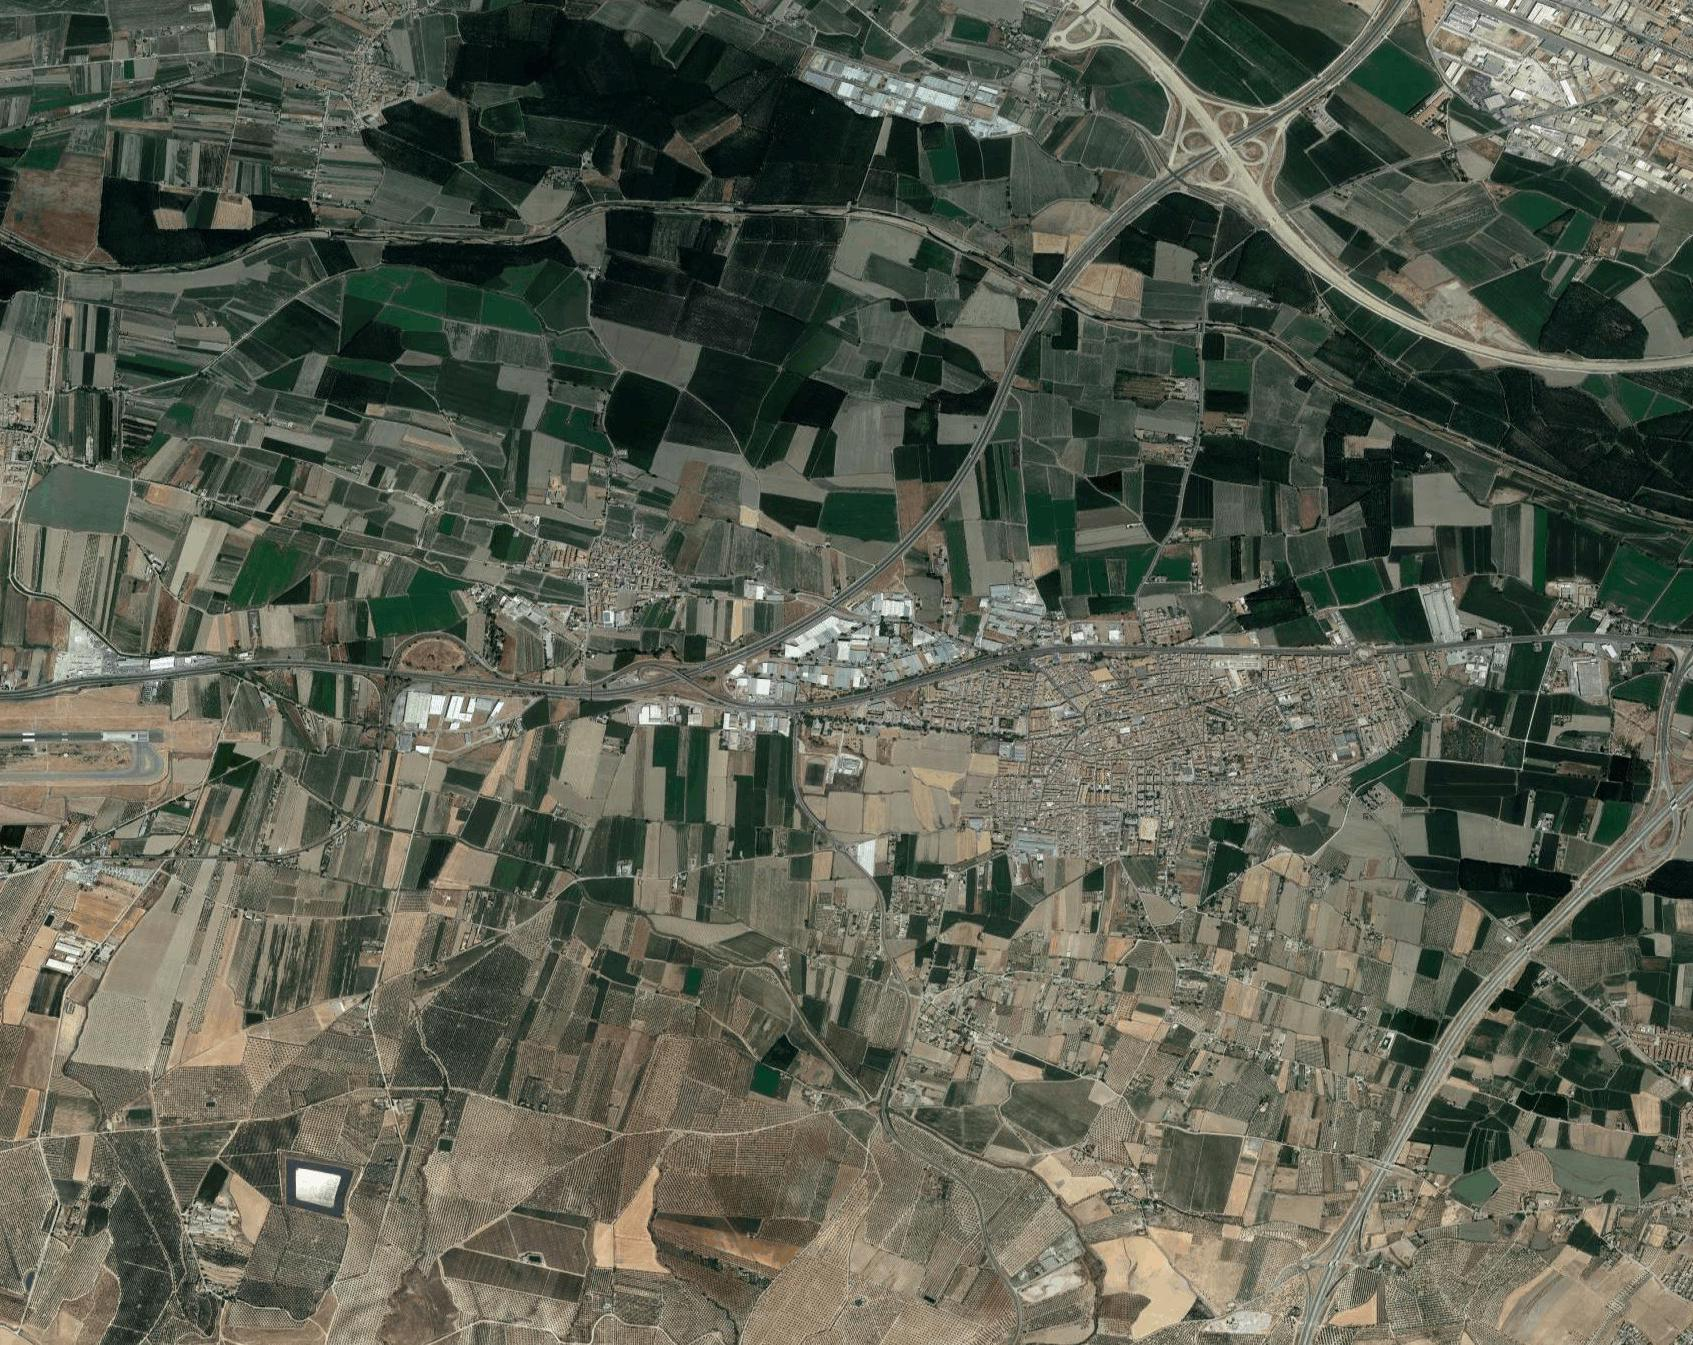industrial: (1436, 1, 1693, 170), (803, 54, 1018, 137), (760, 604, 940, 697)
motorway: (1011, 202, 1130, 348), (1130, 104, 1285, 210), (829, 481, 956, 604), (1275, 1, 1413, 107), (932, 346, 1032, 484), (666, 592, 826, 677), (1586, 800, 1675, 894), (1492, 892, 1580, 986), (1360, 1095, 1425, 1213), (218, 648, 442, 681), (1301, 1214, 1358, 1345), (1422, 985, 1490, 1094), (1, 666, 223, 699), (441, 669, 664, 701), (1649, 655, 1693, 795), (910, 648, 1018, 691), (1525, 626, 1693, 653), (1356, 635, 1524, 661), (1187, 637, 1355, 664), (1018, 635, 1186, 661), (831, 677, 910, 709), (732, 697, 823, 719), (677, 675, 737, 708)
